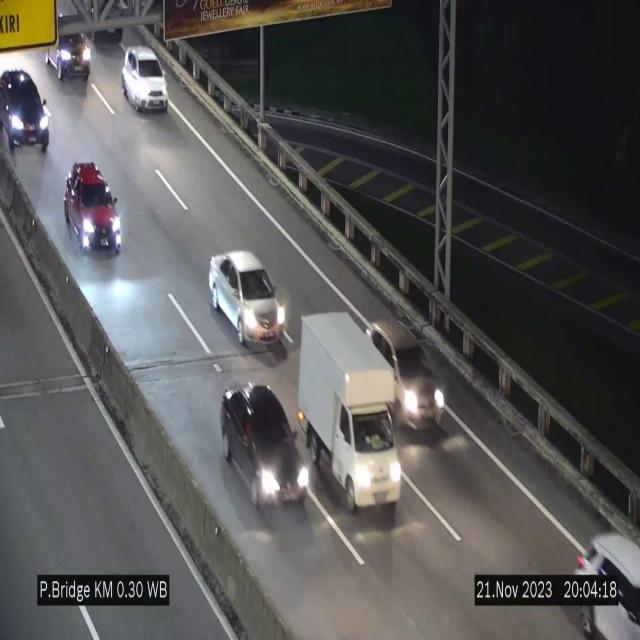Car: (218, 379, 314, 516), (366, 312, 444, 427), (208, 251, 284, 349), (64, 160, 124, 258), (0, 66, 52, 152), (122, 46, 169, 112)
Truck: (299, 314, 401, 512)
